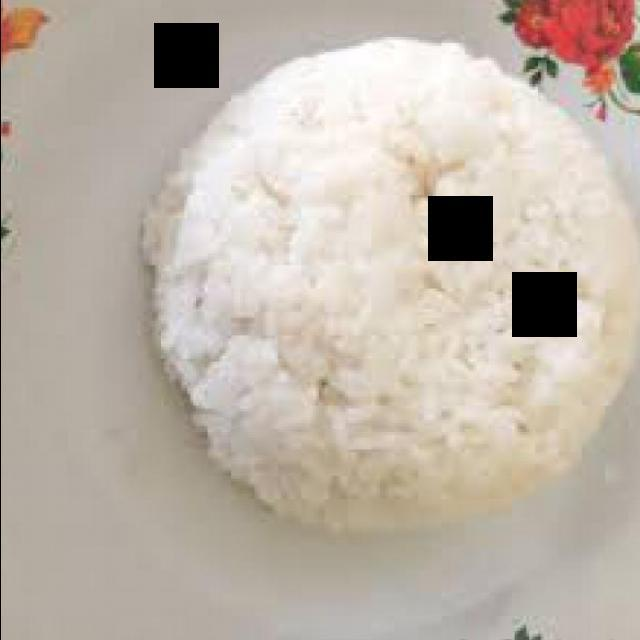rice: (141, 41, 639, 529)
